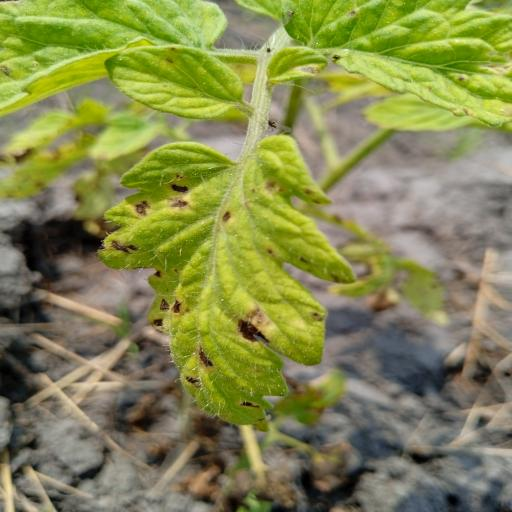Tomato_Brown_Spots: (96, 130, 364, 432), (240, 0, 512, 127), (0, 0, 224, 118), (102, 42, 254, 120)
